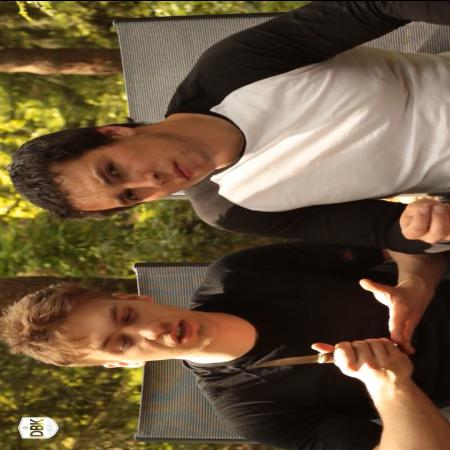long weapon: (241, 336, 382, 379)
